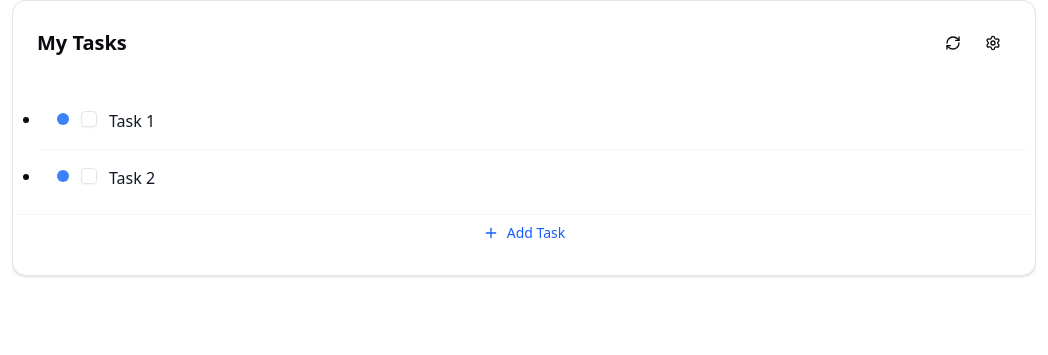
it: TaskList › task interactions › does not render the CTA when a toggle fails with a generic error
Step 1. Click the checkbox named "Task 1" → click(89, 119), box [81, 111, 97, 127]
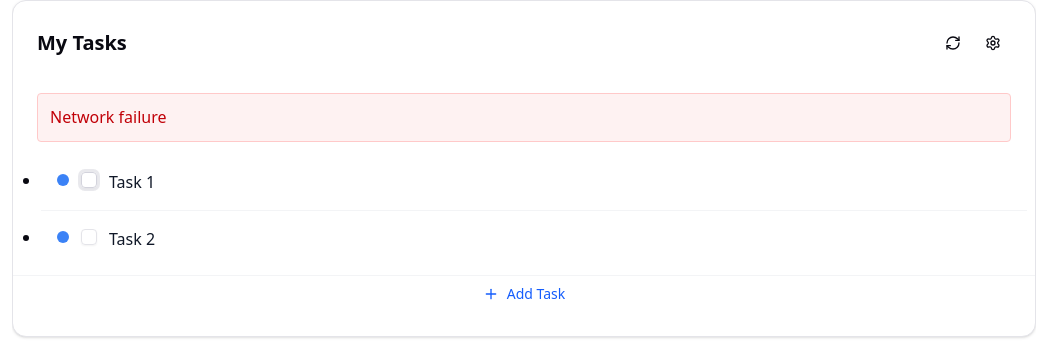
Expected: the text "Network failure" is shown, [50, 106, 166, 128]
